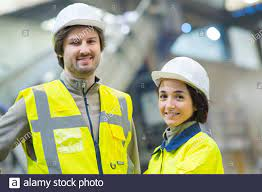Helmet: (151, 56, 216, 87), (49, 5, 108, 31)
Jacket: (19, 81, 134, 178), (153, 143, 221, 174)
